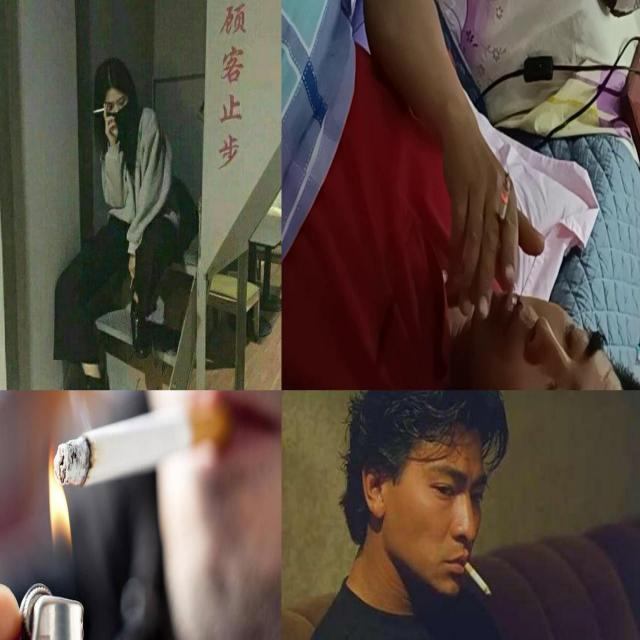cigarette: (54, 400, 232, 486), (496, 172, 512, 252), (463, 558, 492, 598), (92, 104, 106, 114)
